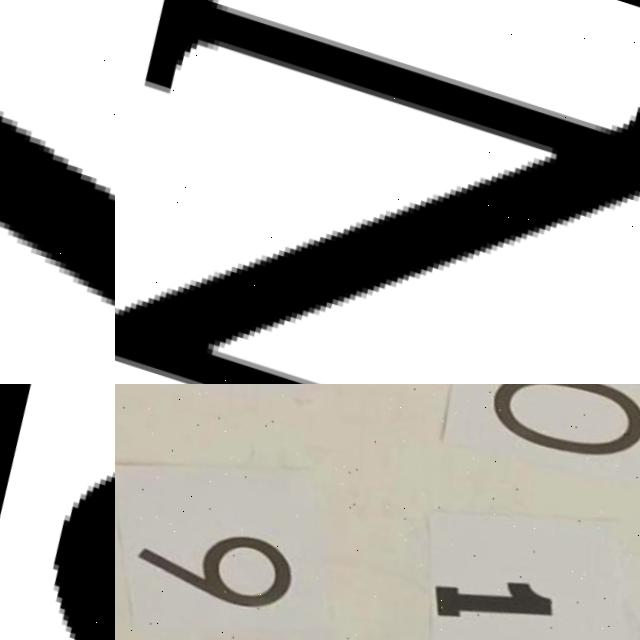0: (461, 384, 640, 495)
1: (403, 534, 575, 640)
5: (0, 414, 115, 640)
9: (115, 481, 318, 640)
L: (0, 0, 115, 384)
N: (115, 0, 640, 384)
